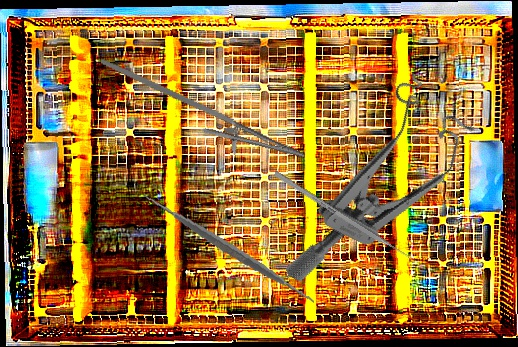Needle Holder: (86, 56, 314, 177)
Pusher: (273, 170, 420, 266)
Spatula Surgical: (141, 160, 317, 336)
Speculum: (283, 61, 486, 322)
